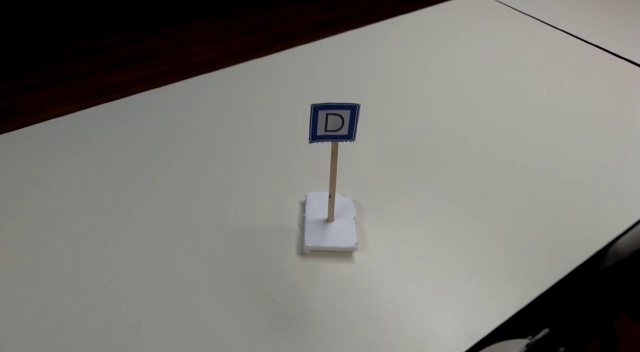durak: (312, 104, 354, 140)
